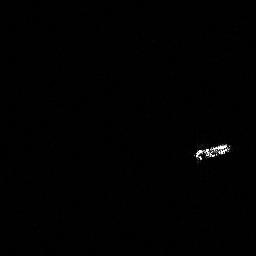ship: (191, 141, 233, 163)
